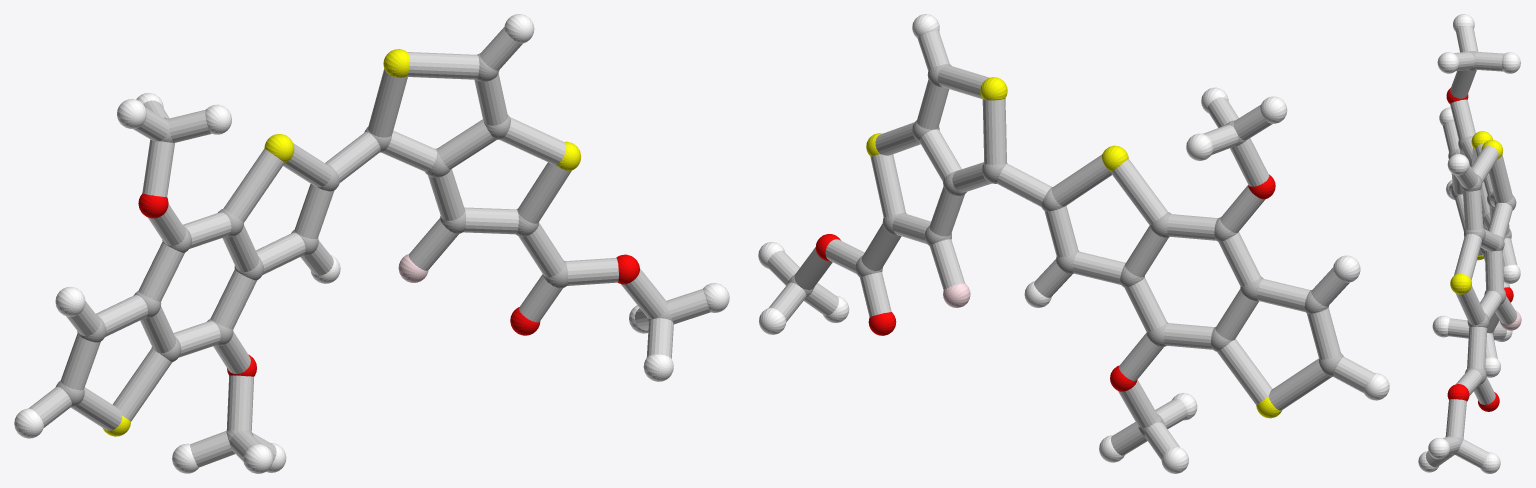
File: color.glb
The picture shows the model from 3 angles, left to right: view 1: azimuth 30°, elevation 25°; view 2: azimuth 150°, elevation 25°; view 3: azimuth 270°, elevation 25°; orthographic projection. The views are drawn at different scales.
Visible parts, largest first — view 1: grp15205, grp8689, grp1, grp7241, grp13395; view 2: grp15205, grp8689, grp1, grp13395, grp7241; view 3: grp15205, grp8689, grp1, grp7241, grp13395, grp14843.
Boxes of the visible parts, bbox=[...] form: grp15205: bbox=[28, 27, 710, 467]; grp8689: bbox=[14, 14, 729, 473]; grp1: bbox=[56, 53, 672, 453]; grp7241: bbox=[103, 49, 581, 436]; grp13395: bbox=[138, 193, 639, 376]; grp15205: bbox=[767, 31, 1373, 460]; grp8689: bbox=[758, 14, 1389, 473]; grp1: bbox=[788, 64, 1343, 436]; grp13395: bbox=[815, 174, 1275, 391]; grp7241: bbox=[866, 77, 1281, 418]; grp15205: bbox=[1425, 26, 1517, 467]; grp8689: bbox=[1418, 14, 1520, 473]; grp1: bbox=[1448, 51, 1516, 454]; grp7241: bbox=[1450, 131, 1503, 294]; grp13395: bbox=[1446, 88, 1513, 411]; grp14843: bbox=[1499, 310, 1521, 330].
Size of the model in its own units: 16.05 by 9.28 by 2.84.
